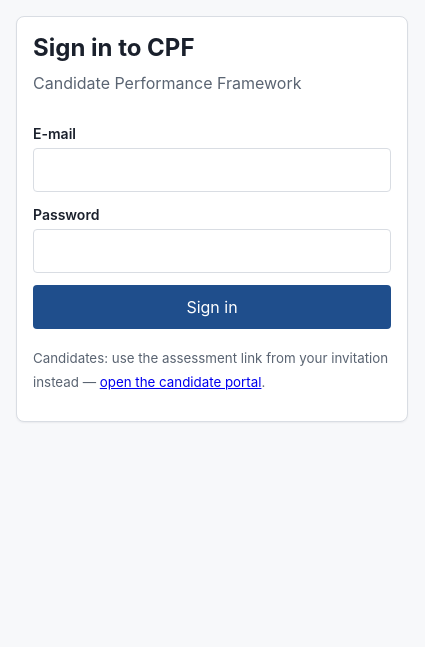
it: LoginPage › reveals the authenticator code field when the server requires MFA
Type "founder@cpf.local" into the field labelled "E-mail". click: (212, 170)
box: [33,148,391,192]
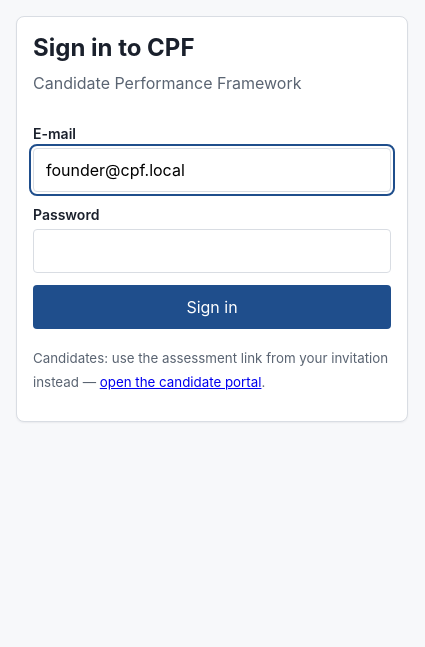
Type "correct-horse-battery-staple" into the password field labelled "Password". click: (212, 251)
box: [33,229,391,273]
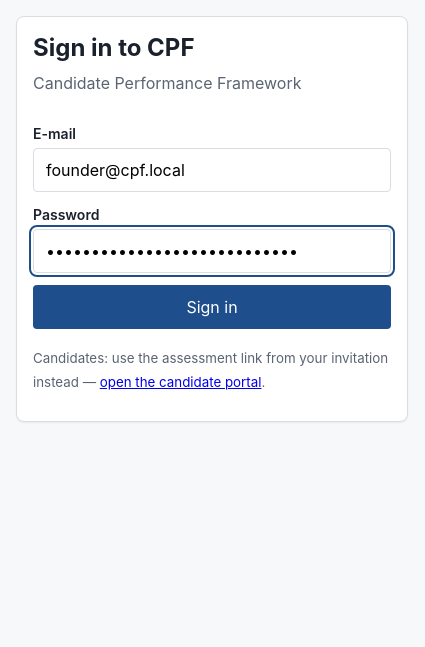
Click the button "Sign in". click: (212, 307)
box: [33,285,391,329]
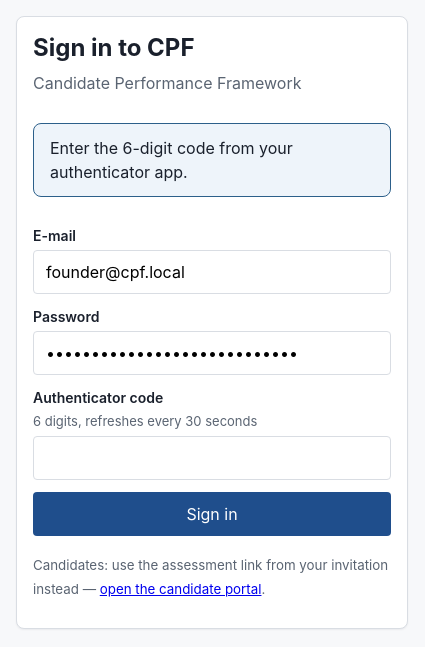
Expected: the field labelled "Authenticator code" is shown, [33,436,391,480]
Expected: the text "Enter the 6-digit code from your authenticator app." is shown, [33,123,391,197]
